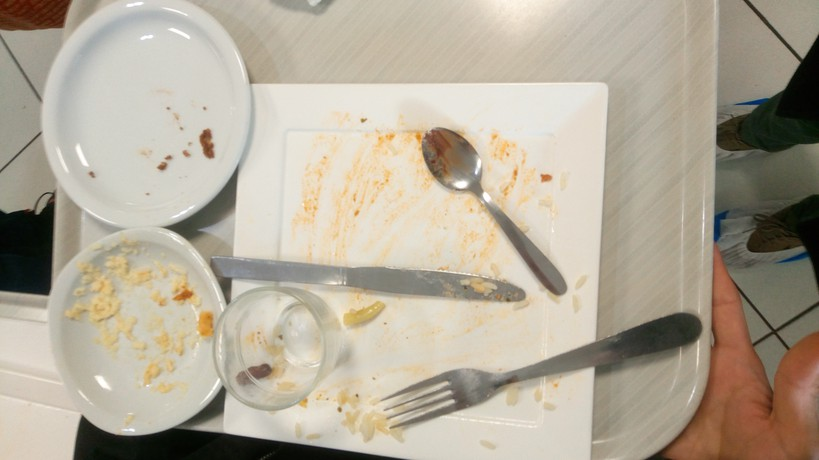cup: (207, 294, 332, 403)
cutlery: (379, 308, 710, 430), (416, 125, 578, 299), (204, 252, 527, 306)
orga: (87, 272, 212, 339)
